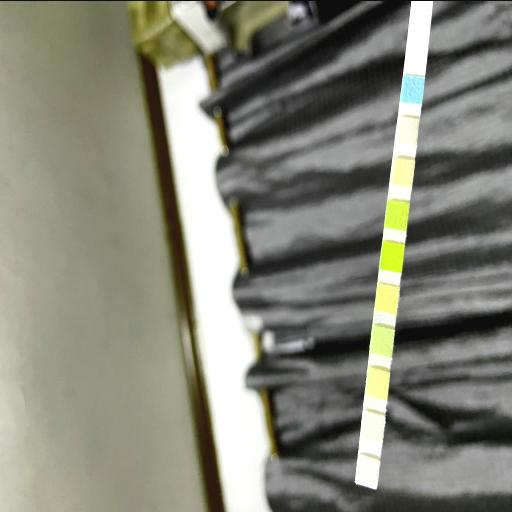Bilirubin: (397, 118, 417, 142)
Blood: (382, 245, 402, 269)
Glucose: (404, 76, 422, 102)
Ketone: (392, 160, 412, 185)
Leukocytes: (357, 460, 378, 483)
Nitrite: (362, 414, 382, 439)
Protein: (372, 329, 392, 353)
SpGravity: (387, 203, 407, 227)
Urobilinogen: (368, 372, 388, 396)
pH: (377, 286, 397, 310)
strip: (355, 0, 433, 489)
